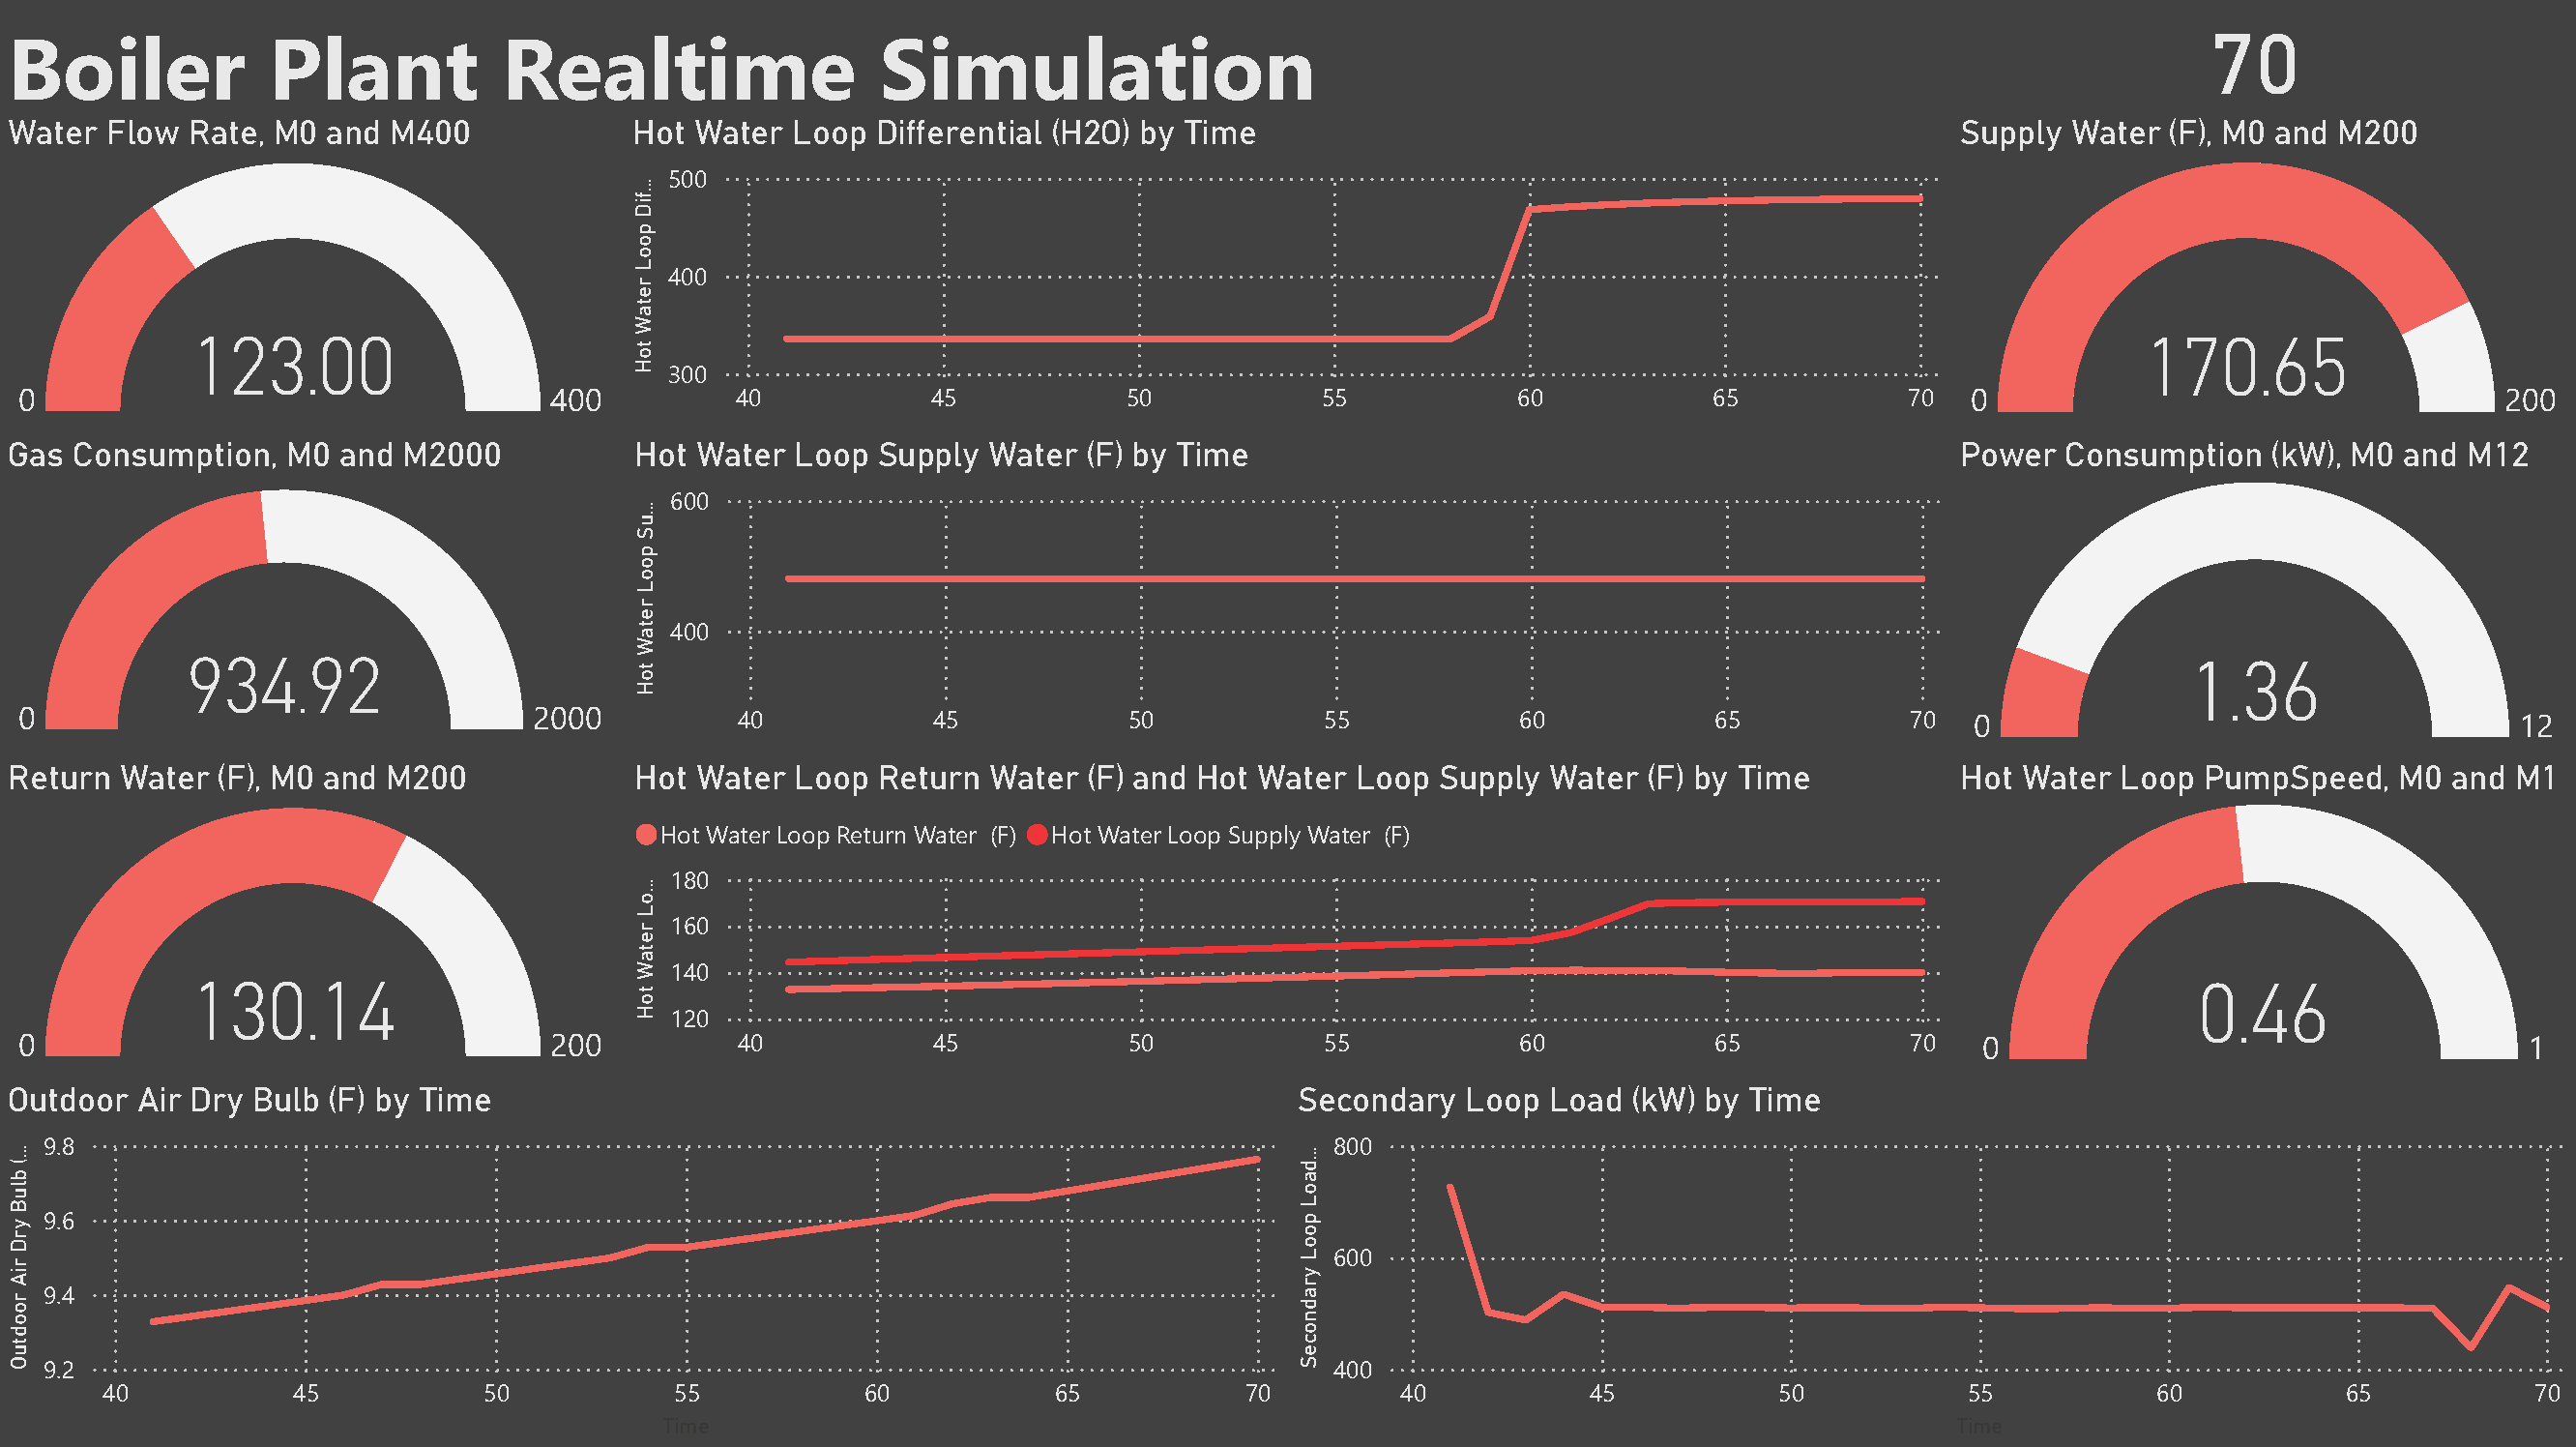

What the dashboard file says about the page in this screenshot:
{"tool":"powerbi","page":{"name":"Page 1","canvas":[1280,720],"ordinal":0},"visuals":[{"type":"textbox","box":[0,0,1280,56.4],"z":0},{"type":"gauge","fields":{"Y":["Sum(Boiler.BOI_FLOW_1)"],"MinValue":["Boiler.M0"],"MaxValue":["Boiler.M400"]},"box":[0,56.9,310,159.9],"z":1000},{"type":"gauge","fields":{"MinValue":["Boiler.M0"],"Y":["Sum(Boiler.BOI_GAS_CSUM_1)"],"MaxValue":["Boiler.M2000"]},"box":[0,216.8,309.9,159.9],"z":2000},{"type":"gauge","fields":{"MinValue":["Boiler.M0"],"Y":["Sum(Boiler.BOI_RW_TEMP_1)"],"MaxValue":["Boiler.M200"]},"box":[0,376.6,309.9,159.9],"z":3000},{"type":"gauge","fields":{"MinValue":["Boiler.M0"],"Y":["Sum(Boiler.BOI_SW_TEMP_1)"],"MaxValue":["Boiler.M200"]},"box":[969.1,56.9,310.9,159.9],"z":4000},{"type":"gauge","fields":{"MinValue":["Boiler.M0"],"Y":["Sum(Boiler.PM_POW_1)"],"MaxValue":["Boiler.M12"]},"box":[969.1,216.8,310.9,159.9],"z":5000},{"type":"gauge","fields":{"MinValue":["Boiler.M0"],"Y":["Sum(Boiler.PM_SPD_1)"],"MaxValue":["Boiler.M1"]},"box":[969.1,376.6,310.9,159.9],"z":6000},{"type":"lineChart","fields":{"Y":["Sum(Boiler.HWL_DP)"],"Category":["Boiler.Time"]},"box":[309.9,56.9,659.1,159.9],"z":7000},{"type":"lineChart","fields":{"Category":["Boiler.Time"],"Y":["Sum(Boiler.HWL_DPSPT)"]},"box":[310.9,216.8,659.1,159.9],"z":7001},{"type":"lineChart","fields":{"Category":["Boiler.Time"],"Y":["Sum(Boiler.HWL_RW_TEMP)","Sum(Boiler.HWL_SW_TEMP)"]},"box":[310.9,376.6,659.1,159.9],"z":7002},{"type":"lineChart","fields":{"Category":["Boiler.Time"],"Y":["Sum(Boiler.OA_TEMP)"]},"box":[0,536.5,639.5,183.4],"z":7003},{"type":"lineChart","fields":{"Category":["Boiler.Time"],"Y":["Sum(Boiler.SEC_POW)"]},"box":[640.5,536.5,639.5,183.4],"z":7004},{"type":"card","fields":{"Values":["Sum(Boiler.Time)"]},"box":[960.2,0,319.8,56.9],"z":7005}]}

Visuals, with their boxes in screenshot pixels (x1, y1, x2, y2), scaled from the page's 1280x720 canvas onto the 2576x1447 screenshot:
textbox: {"left": 0, "top": 0, "right": 2575, "bottom": 113}
gauge - Sum(Boiler.BOI_FLOW_1) x Boiler.M0: {"left": 0, "top": 114, "right": 624, "bottom": 435}
gauge - Boiler.M0 x Sum(Boiler.BOI_GAS_CSUM_1): {"left": 0, "top": 435, "right": 624, "bottom": 757}
gauge - Boiler.M0 x Sum(Boiler.BOI_RW_TEMP_1): {"left": 0, "top": 756, "right": 624, "bottom": 1078}
gauge - Boiler.M0 x Sum(Boiler.BOI_SW_TEMP_1): {"left": 1950, "top": 114, "right": 2575, "bottom": 435}
gauge - Boiler.M0 x Sum(Boiler.PM_POW_1): {"left": 1950, "top": 435, "right": 2575, "bottom": 757}
gauge - Boiler.M0 x Sum(Boiler.PM_SPD_1): {"left": 1950, "top": 756, "right": 2575, "bottom": 1078}
lineChart - Sum(Boiler.HWL_DP) x Boiler.Time: {"left": 624, "top": 114, "right": 1950, "bottom": 435}
lineChart - Boiler.Time x Sum(Boiler.HWL_DPSPT): {"left": 626, "top": 435, "right": 1952, "bottom": 757}
lineChart - Boiler.Time x Sum(Boiler.HWL_RW_TEMP): {"left": 626, "top": 756, "right": 1952, "bottom": 1078}
lineChart - Boiler.Time x Sum(Boiler.OA_TEMP): {"left": 0, "top": 1078, "right": 1287, "bottom": 1446}
lineChart - Boiler.Time x Sum(Boiler.SEC_POW): {"left": 1289, "top": 1078, "right": 2575, "bottom": 1446}
card - Sum(Boiler.Time): {"left": 1932, "top": 0, "right": 2575, "bottom": 114}
